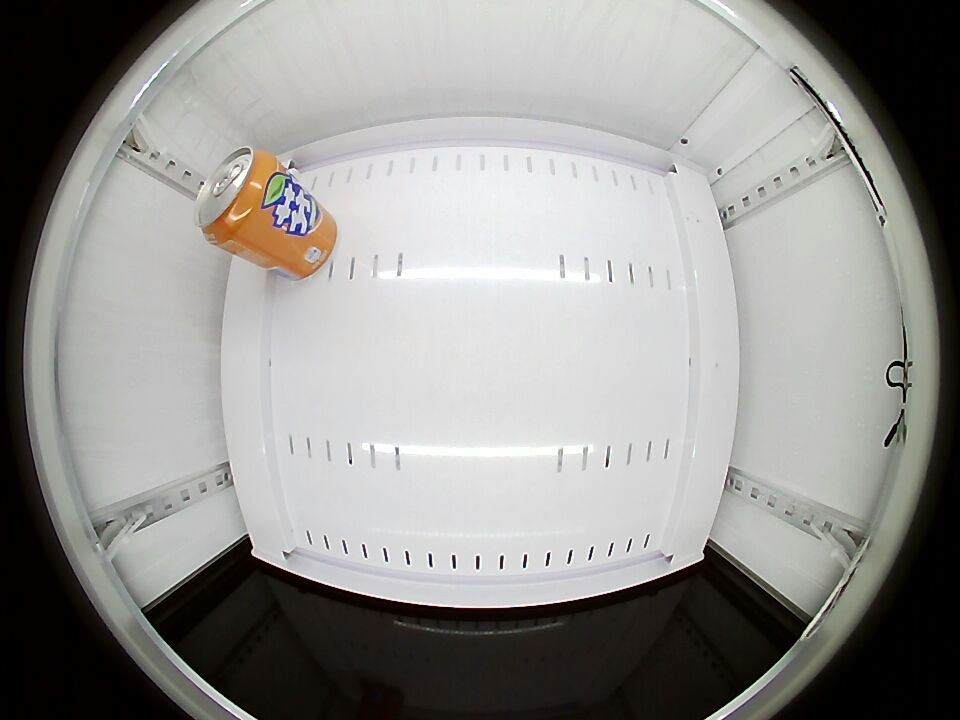fenda: (193, 146, 279, 245)
